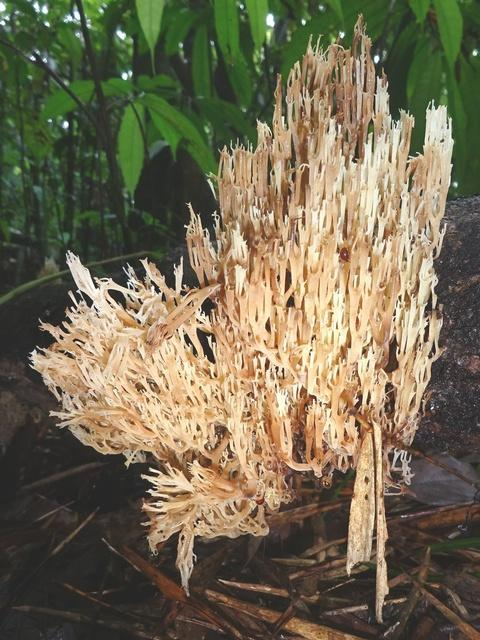Edible Mushroom: (27, 13, 432, 511)
